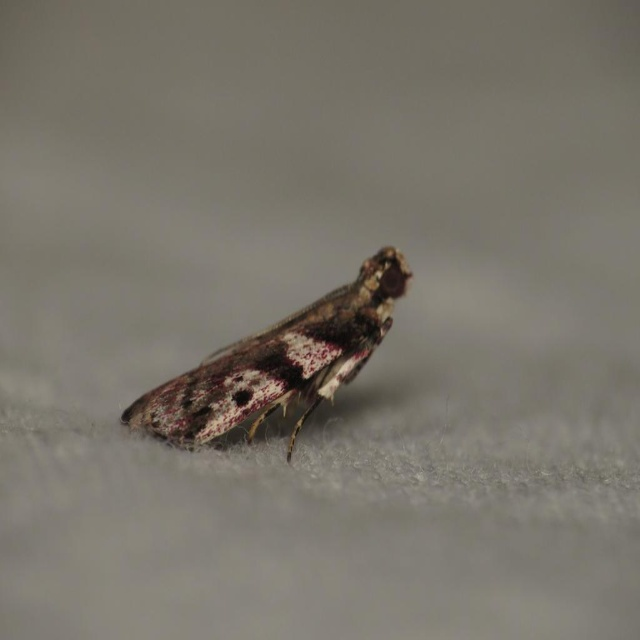Moths and butterflies: (118, 244, 412, 463)
